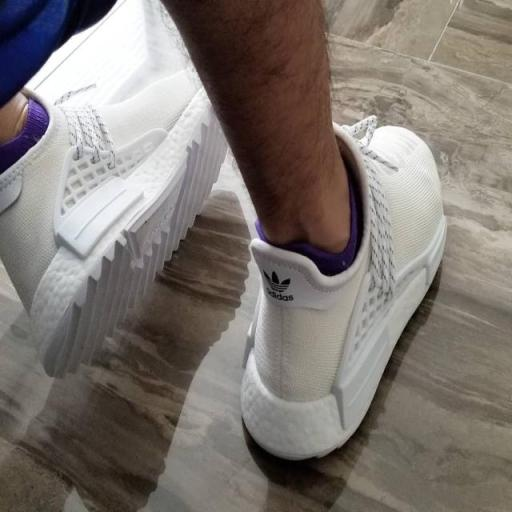Adidas: (262, 265, 296, 305)
